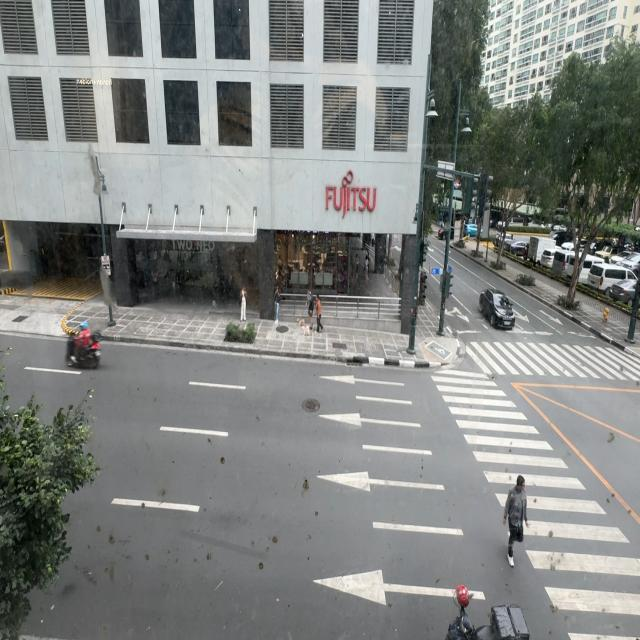jaywalking: (502, 476, 528, 566)
